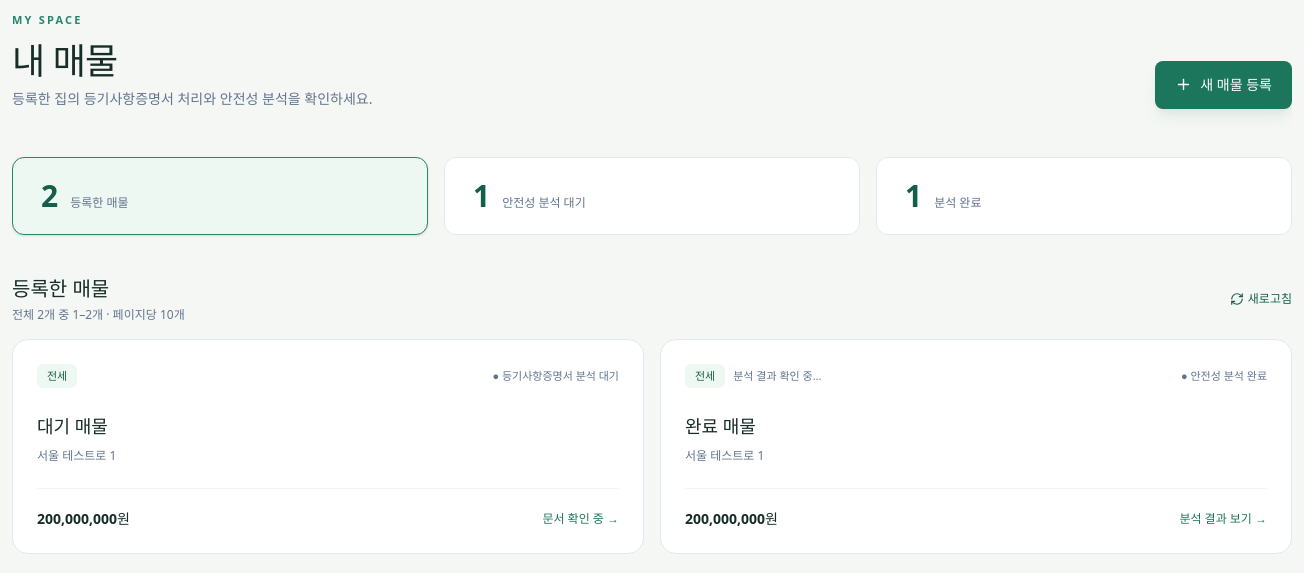
listing result badges › filters by the selected summary button while preserving overall counts
expect the heading "완료 매물" is shown: met, box [685, 414, 756, 438]
Click the button with aria-label "분석 완료 1개": click(958, 202) [876, 156, 1292, 234]
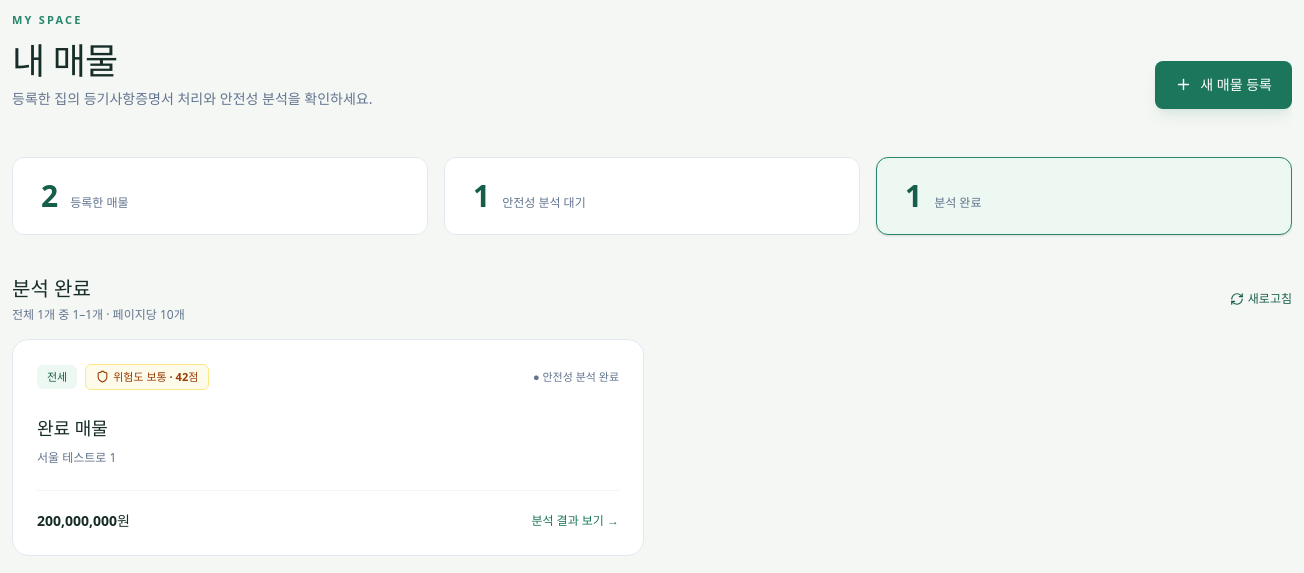
expect the heading "완료 매물" is shown: met, box [37, 416, 108, 440]
expect the link "대기 매물" is gone: met
Click the button with aria-label "안전성 분석 대기 1개": click(544, 202) [444, 156, 860, 234]
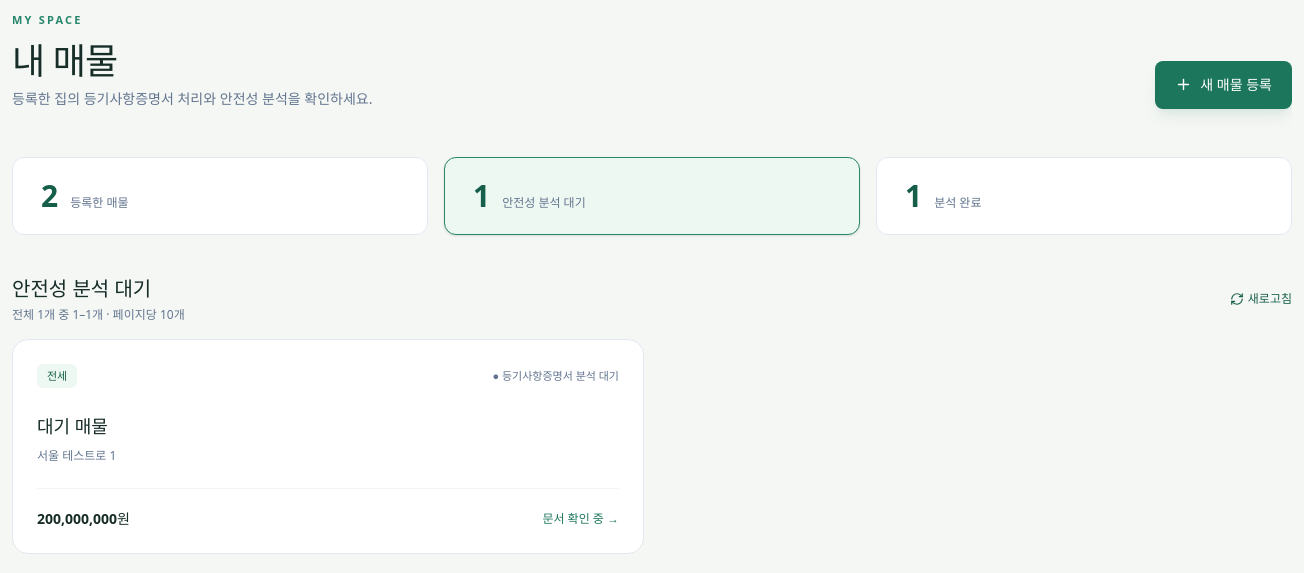
expect the heading "대기 매물" is shown: met, box [37, 414, 108, 438]
expect the link "완료 매물" is gone: met
Click the button with aria-label "등록한 매물 2개": click(99, 202) [12, 156, 428, 234]
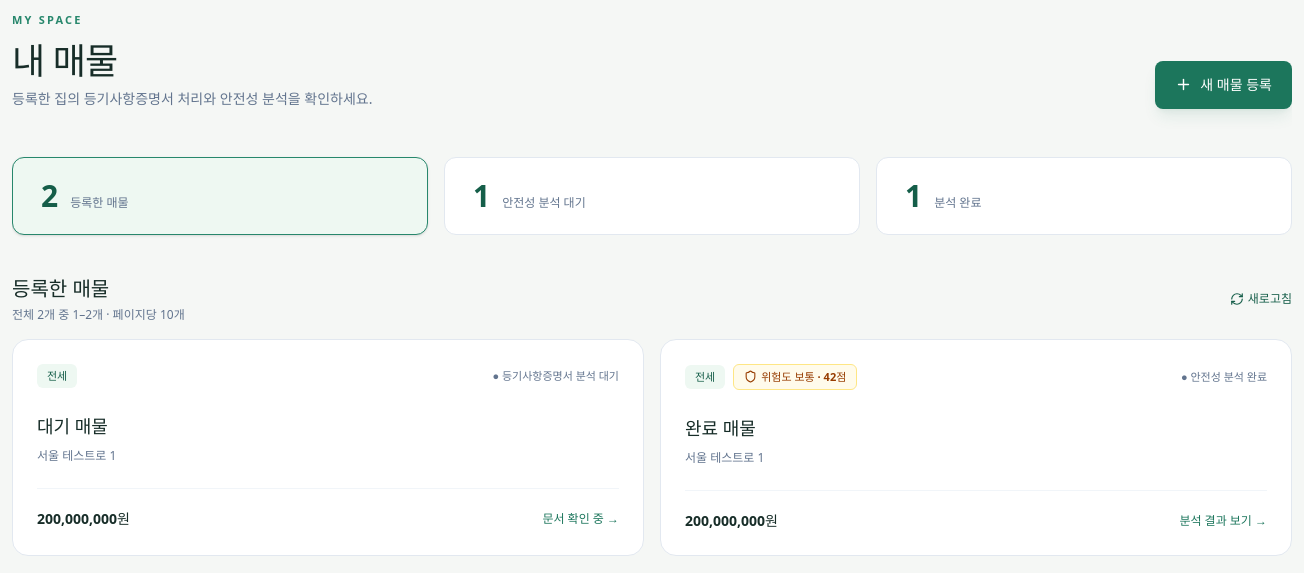
expect the heading "대기 매물" is shown: met, box [37, 414, 108, 438]
expect the heading "완료 매물" is shown: met, box [685, 416, 756, 440]
